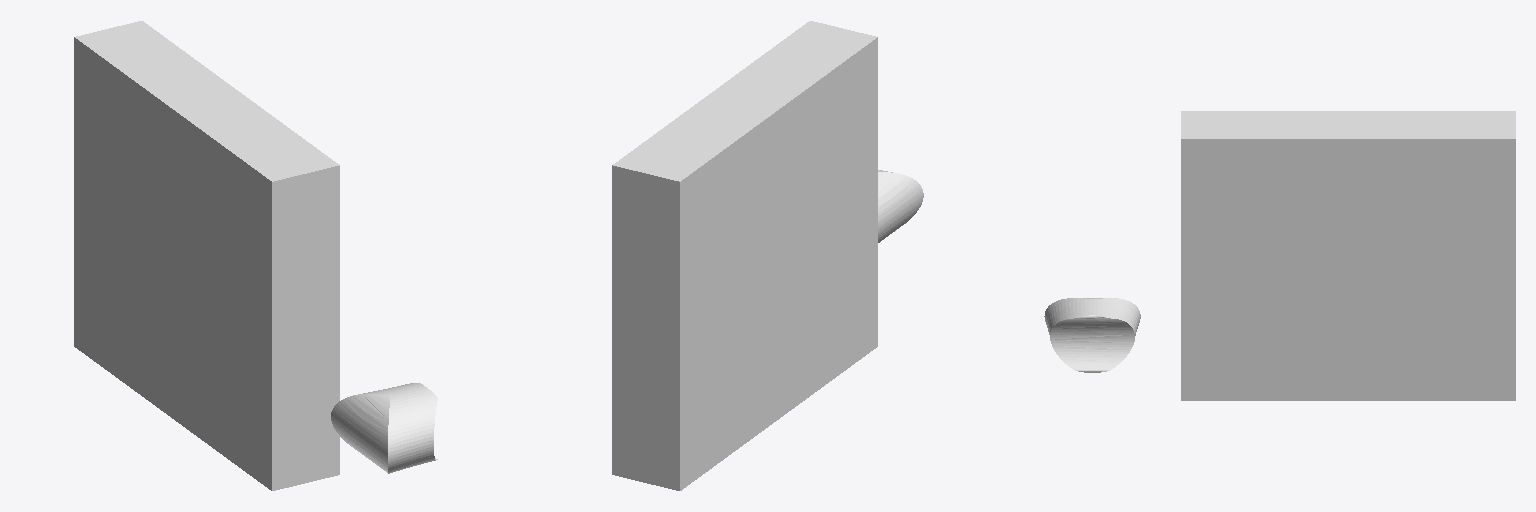
The robot description file, URDF, robot "autobed":
<?xml version="1.0" ?>
<robot name="autobed">

  <gazebo reference="autobed">
    <plugin filename="libros_model_plugin.so" name="ros_model_plugin"/>
    <static> false </static>
  </gazebo>

  <gazebo reference="head_rest_link">
    <gravity>true</gravity>
   <!-- kp and kd for thin mud -->
    <kp>1000.0</kp>
    <kd>0.0</kd>
    <mu1>1.5</mu1>
    <mu2>1.5</mu2>
    <fdir1>1 0 0</fdir1>
    <maxVel>1.0</maxVel>
    <minDepth>0.00</minDepth>
    <sensor name="head_rest_link_pressuremat_sensor" type="contact">
      <contact>
        <collision>head_rest_link_collision</collision>
        <topic>__default_topic__</topic>
      </contact>
      <plugin filename="libros_pressuremat_plugin.so" name="ros_pressuremat_plugin_head_rest_link"/>
      <always_on>1</always_on>
      <update_rate>30.0</update_rate>
      <visualize>false</visualize>
    </sensor>
  </gazebo>

  <gazebo reference="head_rest_spring">
    <gravity>true</gravity>
   <!-- kp and kd for thick mud -->
    <kp>10000000000.0</kp>
    <kd>0.0</kd>
    <mu1>1.5</mu1>
    <mu2>1.5</mu2>
    <fdir1>1 0 0</fdir1>
    <maxVel>1.0</maxVel>
    <minDepth>0.00</minDepth>
  </gazebo>


  <gazebo reference="mid_body_link">
    <gravity>true</gravity>
    <!-- kp and kd for rubber -->
    <kp>1000.0</kp>
    <kd>0.0</kd>
    <mu1>1.5</mu1>
    <mu2>1.5</mu2>
    <fdir1>1 0 0</fdir1>
    <maxVel>1.0</maxVel>
    <minDepth>0.00</minDepth>
   <sensor name="mid_body_link_pressuremat_sensor" type="contact">
      <contact>
        <collision>mid_body_link_collision</collision>
        <topic>__default_topic__</topic>
      </contact>
      <plugin filename="libros_pressuremat_plugin.so" name="ros_pressuremat_plugin_mid_body_link"/>
      <always_on>1</always_on>
      <update_rate>30.0</update_rate>
      <visualize>false</visualize>
    </sensor>
  </gazebo>

  <gazebo reference="torso_lift_link">
    <gravity>true</gravity>
    <!-- kp and kd for rubber -->
    <kp>10000000000.0</kp>
    <kd>0.0</kd>
    <mu1>1.5</mu1>
    <mu2>1.5</mu2>
    <fdir1>1 0 0</fdir1>
    <maxVel>1.0</maxVel>
    <minDepth>0.00</minDepth>
  </gazebo>


  <gazebo reference="leg_rest_upper_link">
    <gravity>true</gravity>
    <!-- kp and kd for rubber -->
    <kp>1000.0</kp>
    <kd>0.0</kd>
    <mu1>1.5</mu1>
    <mu2>1.5</mu2>
    <fdir1>1 0 0</fdir1>
    <maxVel>1.0</maxVel>
    <minDepth>0.00</minDepth>
   <sensor name="leg_rest_upper_link_pressuremat_sensor" type="contact">
      <contact>
        <collision>leg_rest_upper_link_collision</collision>
        <topic>__default_topic__</topic>
      </contact>
      <plugin filename="libros_pressuremat_plugin.so" name="ros_pressuremat_plugin_leg_rest_upper_link"/>
      <always_on>1</always_on>
      <update_rate>30.0</update_rate>
      <visualize>false</visualize>
    </sensor>
  </gazebo>

  <gazebo reference="leg_rest_upper_spring">
    <gravity>true</gravity>
    <!-- kp and kd for rubber -->
    <kp>10000000000.0</kp>
    <kd>0.0</kd>
    <mu1>1.5</mu1>
    <mu2>1.5</mu2>
    <fdir1>1 0 0</fdir1>
    <maxVel>1.0</maxVel>
    <minDepth>0.00</minDepth>
  </gazebo>


  <gazebo reference="leg_rest_lower_link">
    <gravity>true</gravity>
    <!-- kp and kd for rubber -->
    <kp>1000.0</kp>
    <kd>0.0</kd>
    <mu1>1.5</mu1>
    <mu2>1.5</mu2>
    <fdir1>1 0 0</fdir1>
    <maxVel>1.0</maxVel>
    <minDepth>0.00</minDepth>

    <sensor name="leg_rest_lower_link_pressuremat_sensor" type="contact">
      <contact>
        <collision>leg_rest_lower_link_collision</collision>
        <topic>__default_topic__</topic>
      </contact>
      <plugin filename="libros_pressuremat_plugin.so" name="ros_pressuremat_plugin_leg_rest_lower_link"/>
      <always_on>1</always_on>
      <update_rate>30.0</update_rate>
      <visualize>false</visualize>
    </sensor>
  </gazebo>


  <gazebo reference="leg_rest_lower_spring">
    <gravity>true</gravity>
    <!-- kp and kd for rubber -->
    <kp>10000000000.0</kp>
    <kd>111111111110.0</kd>
    <mu1>1.5</mu1>
    <mu2>1.5</mu2>
    <fdir1>1 0 0</fdir1>
    <maxVel>1.0</maxVel>
    <minDepth>0.00</minDepth>
  </gazebo>



  <link name="world"/>


  <joint name="X" type="fixed">
    <axis xyz="1 0 0"/>
    <origin rpy="0 0 1.57079632679" xyz="0.0 -1.1433776843867E-16 0.0"/>
    <parent link="world"/>
    <child link="base_link"/>
    <limit effort="30" lower="-0.714601836603" upper="2.2853981634" velocity="3.48"/>
    <dynamics damping="10.0"/>
    <safety_controller k_position="100" k_velocity="10" soft_lower_limit="-0.564601836603" soft_upper_limit="2.1353981634"/>
  </joint>


  <link
    name="base_link">
    <inertial>
      <origin
        xyz="0.0 -1.33394063178448E-16 0.0"
        rpy="0 0 0" />
      <mass
        value="582.60172808288" />
      <inertia
        ixx="1.14927006759014"
        ixy="3.33066907387547E-16"
        ixz="-3.20129858648357E-16"
        iyy="6.70434113225239"
        iyz="-1.34244075554923E-15"
        izz="7.79754704731756" />
    </inertial>
    <visual>
      <origin
        xyz="0 0 0"
        rpy="0 0 0" />
      <geometry>
        <mesh
          filename="package://hrl_gazebo_autobed/urdf/meshes/base_link.STL" />
      </geometry>
      <material
        name="">
        <color
          rgba="0.792156862745098 0.819607843137255 0.933333333333333 1" />
      </material>
    </visual>
    <collision>
      <origin
        xyz="0 0 0"
        rpy="0 0 0" />
      <geometry>
        <mesh
          filename="package://hrl_gazebo_autobed/urdf/meshes/base_link.STL" />
      </geometry>
    </collision>
  </link>

  <link
    name="torso_lift_link">
    <inertial>
      <origin
        xyz="1.0496 2.2511E-16 0.082398"
        rpy="0 0 0" />
      <mass
        value="14.2783" />
      <inertia
        ixx="12.999"
        ixy="3.3693E-14"
        ixz="-0.32653"
        iyy="75.15"
        iyz="6.0531E-15"
        izz="85.421" />
    </inertial>
    <visual>
      <origin
        xyz="0 0 0"
        rpy="0 0 0" />
      <geometry>
        <mesh
          filename="package://hrl_gazebo_autobed/urdf/meshes/torso_lift_link.STL" />
      </geometry>
      <material
        name="">
        <color
          rgba="0.79216 0.81961 0.93333 1" />
      </material>
    </visual>
    <collision>
      <origin
        xyz="0 0 0"
        rpy="0 0 0" />
      <geometry>
        <mesh
          filename="package://hrl_gazebo_autobed/urdf/meshes/torso_lift_link.STL" />
      </geometry>
    </collision>
  </link>
  <joint
    name="autobed_height_joint"
    type="prismatic">
    <origin
      xyz="-0.02 0 0.2805"
      rpy="0 0 0" />
    <parent
      link="base_link" />
    <child
      link="torso_lift_link" />
    <axis
      xyz="0 0 1" />
    <limit
      lower="0.0"
      upper="0.2"
      effort="2000"
      velocity="0.2" />
  </joint>

  <link
    name="mid_body_link">
    <inertial>
      <origin
        xyz="2.5603E-16 0.185 -0.14"
        rpy="0 0 0" />
      <mass
        value="4.0992" />
      <inertia
        ixx="0.086361"
        ixy="1.3556E-16"
        ixz="-7.0508E-17"
        iyy="0.97743"
        iyz="1.6284E-17"
        izz="0.89641" />
    </inertial>
    <visual>
      <origin
        xyz="0 0 0"
        rpy="0 0 0" />
      <geometry>
        <mesh
          filename="package://hrl_gazebo_autobed/urdf/meshes/mid_body_link.STL" />
      </geometry>
      <material
        name="">
        <color
          rgba="0.93333 0.93333 0.93333 1" />
      </material>
    </visual>
    <collision name="mid_body_link_collision">
      <origin
        xyz="0 0 0"
        rpy="0 0 0" />
      <geometry>
        <mesh
          filename="package://hrl_gazebo_autobed/urdf/meshes/mid_body_link.STL" />
      </geometry>
    </collision>
  </link>

  <joint
    name="mid_body_support"
    type="revolute">
    <origin
      xyz="0.78266 0 0.05"
      rpy="1.5708 -8.0245E-32 -1.5708" />
    <parent
      link="torso_lift_link" />
    <child
      link="mid_body_link" />
    <axis
      xyz="0 0 1" />
    <limit
      lower="0"
      upper="0"
      effort="0"
      velocity="0" />
  </joint>

  <link
    name="head_rest_link">
    <inertial>
      <origin
        xyz="-0.40091 -8.251E-16 -0.01072"
        rpy="0 0 0" />
      <mass
        value="5.2153755040103" />
      <inertia
        ixx="3.2938"
        ixy="-1.1573E-16"
        ixz="-0.065382"
        iyy="1.7511"
        iyz="-3.6248E-16"
        izz="4.9801" />
    </inertial>
    <visual>
      <origin
        xyz="0 0 0"
        rpy="0 0 0" />
      <geometry>
        <mesh
          filename="package://hrl_gazebo_autobed/urdf/meshes/head_rest_link.STL" />
      </geometry>
      <material
        name="">
        <color
          rgba="0.9333 0.9333 0.93333 1" />
      </material>
    </visual>
    <collision name="head_rest_link_collision">
      <origin
        xyz="0 0 0"
        rpy="0 0 0" />
      <geometry>
        <mesh
          filename="package://hrl_gazebo_autobed/urdf/meshes/head_rest_link.STL" />
      </geometry>
    </collision>
  </link>

  <joint
    name="head_rest_hinge"
    type="revolute">
    <origin
      xyz="0 0.21 0"
      rpy="0 1.57 1.57" />
    <parent
      link="mid_body_link" />
    <child
      link="head_rest_link" />
    <axis
      xyz="0 1 0" />
    <limit
      lower="0"
      upper="1.57"
      effort="2000"
      velocity="0.2" />
  </joint>

  <link
    name="head_rest_spring">
    <inertial>
      <origin
        xyz="-0.36 -9.134E-16 -0.13"
        rpy="0 0 0" />
      <mass
        value="10.0" />
      <inertia
        ixx="7.5791"
        ixy="-1.4362E-15"
        ixz="-1.0523E-15"
        iyy="4.7785"
        iyz="-9.0916E-16"
        izz="11.908" />
    </inertial>
    <visual>
      <origin
        xyz="0 0 0"
        rpy="0 0 0" />
      <geometry>
        <mesh
          filename="package://hrl_gazebo_autobed/urdf/meshes/head_rest_spring.STL" />
      </geometry>
      <material
        name="">
        <color
          rgba="0.79216 0.81961 0.93333 1" />
      </material>
    </visual>
    <collision>
      <origin
        xyz="0 0 0"
        rpy="0 0 0" />
      <geometry>
        <mesh
          filename="package://hrl_gazebo_autobed/urdf/meshes/head_rest_spring.STL" />
      </geometry>
    </collision>
  </link>

  <joint
    name="head_support"
    type="revolute">
    <origin
      xyz="0 0 0"
      rpy="0 0 0" />
    <parent
      link="head_rest_link" />
    <child
      link="head_rest_spring" />
    <axis
      xyz="0 0 1" />
    <limit
      lower="0"
      upper="0"
      effort="0"
      velocity="0" />
  </joint>

  <link
    name="leg_rest_upper_link">
    <inertial>
      <origin
        xyz="0.185 -5.0573E-17 -0.025"
        rpy="0 0 0" />
      <mass
        value="02.10955" />
      <inertia
        ixx="1.1845"
        ixy="1.1918E-16"
        ixz="2.5669E-17"
        iyy="0.19664"
        iyz="-1.0577E-16"
        izz="1.3741" />
    </inertial>
    <visual>
      <origin
        xyz="0 0 0"
        rpy="0 0 0" />
      <geometry>
        <mesh
          filename="package://hrl_gazebo_autobed/urdf/meshes/leg_rest_upper_link.STL" />
      </geometry>
      <material
        name="">
        <color
          rgba="0.9333 0.93333 0.93333 1" />
      </material>
    </visual>
    <collision name="leg_rest_upper_link_collision">
      <origin
        xyz="0 0 0"
        rpy="0 0 0" />
      <geometry>
        <mesh
          filename="package://hrl_gazebo_autobed/urdf/meshes/leg_rest_upper_link.STL" />
      </geometry>
    </collision>
  </link>

  <joint
    name="leg_rest_upper_joint"
    type="revolute">
    <origin
      xyz="0 0.21 -0.28"
      rpy="0 1.5708 1.5708" />
    <parent
      link="mid_body_link" />
    <child
      link="leg_rest_upper_link" />
    <axis
      xyz="0 -1 0" />
    <limit
      lower="0"
      upper="1"
      effort="2000"
      velocity="0.2" />
  </joint>

  <link
    name="leg_rest_lower_link">
    <inertial>
      <origin
        xyz="0.345 -1.9462E-17 -0.025"
        rpy="0 0 0" />
      <mass
        value="3.25835" />
      <inertia
        ixx="2.209"
        ixy="1.3017E-16"
        ixz="-6.1265E-16"
        iyy="1.259"
        iyz="-5.5408E-16"
        izz="3.4549" />
    </inertial>
    <visual>
      <origin
        xyz="0 0 0"
        rpy="0 0 0" />
      <geometry>
        <mesh
          filename="package://hrl_gazebo_autobed/urdf/meshes/leg_rest_lower_link.STL" />
      </geometry>
      <material
        name="">
        <color
          rgba="0.93333 0.93333 0.93333 1" />
      </material>
    </visual>
    <collision name="leg_rest_lower_link_collision">
      <origin
        xyz="0 0 0"
        rpy="0 0 0" />
      <geometry>
        <mesh
          filename="package://hrl_gazebo_autobed/urdf/meshes/leg_rest_lower_link.STL" />
      </geometry>
    </collision>
  </link>

  <joint
    name="leg_rest_upper_lower_joint"
    type="revolute">
    <origin
      xyz="0.37 0 0"
      rpy="0 0 0" />
    <parent
      link="leg_rest_upper_link" />
    <child
      link="leg_rest_lower_link" />
    <axis
      xyz="0 -1 0" />
    <limit
      lower="-0.785"
      upper="0"
      effort="2000"
      velocity="0.2" />
  </joint>

  <link
    name="leg_rest_lower_spring">
    <inertial>
      <origin
        xyz="0.345 -2.9232E-16 -0.13"
        rpy="0 0 0" />
      <mass
        value="10.016" />
      <inertia
        ixx="7.2633"
        ixy="-1.2975E-15"
        ixz="1.814E-16"
        iyy="4.2233"
        iyz="-1.5281E-15"
        izz="11.056" />
    </inertial>
    <visual>
      <origin
        xyz="0 0 0"
        rpy="0 0 0" />
      <geometry>
        <mesh
          filename="package://hrl_gazebo_autobed/urdf/meshes/leg_rest_lower_spring.STL" />
      </geometry>
      <material
        name="">
        <color
          rgba="0.79216 0.81961 0.93333 1" />
      </material>
    </visual>
    <collision>
      <origin
        xyz="0 0 0"
        rpy="0 0 0" />
      <geometry>
        <mesh
          filename="package://hrl_gazebo_autobed/urdf/meshes/leg_rest_lower_spring.STL" />
      </geometry>
    </collision>
  </link>

  <joint
    name="leg_rest_lower_support"
    type="revolute">
    <origin
      xyz="0 0 0"
      rpy="0 0 0" />
    <parent
      link="leg_rest_lower_link" />
    <child
      link="leg_rest_lower_spring" />
    <axis
      xyz="0 0 1" />
    <limit
      lower="0"
      upper="0"
      effort="0"
      velocity="0" />
  </joint>

  <link
    name="leg_rest_upper_spring">
    <inertial>
      <origin
        xyz="0.185 -1.2824E-16 -0.13"
        rpy="0 0 0" />
      <mass
        value="5.0" />
      <inertia
        ixx="3.8948"
        ixy="-5.5404E-16"
        ixz="-1.058E-16"
        iyy="0.73353"
        iyz="-5.0897E-16"
        izz="4.3972" />
    </inertial>
    <visual>
      <origin
        xyz="0 0 0"
        rpy="0 0 0" />
      <geometry>
        <mesh
          filename="package://hrl_gazebo_autobed/urdf/meshes/leg_rest_upper_spring.STL" />
      </geometry>
      <material
        name="">
        <color
          rgba="0.79216 0.81961 0.93333 1" />
      </material>
    </visual>
    <collision>
      <origin
        xyz="0 0 0"
        rpy="0 0 0" />
      <geometry>
        <mesh
          filename="package://hrl_gazebo_autobed/urdf/meshes/leg_rest_upper_spring.STL" />
      </geometry>
    </collision>
  </link>

  <joint
    name="leg_rest_upper_support"
    type="revolute">
    <origin
      xyz="0 0 0"
      rpy="0 0 0" />
    <parent
      link="leg_rest_upper_link" />
    <child
      link="leg_rest_upper_spring" />
    <axis
      xyz="0 0 1" />
    <limit
      lower="0"
      upper="0"
      effort="0"
      velocity="0" />

  </joint>

<!-- yash added transmissions -->
  <transmission name="autobed_height_t0" type="pr2_mechanism_model/SimpleTransmission">
    <actuator name="autobed_height_a0"/>
    <joint name="autobed_height_joint"/>
    <mechanicalReduction>1</mechanicalReduction>
  </transmission>
  <transmission name="head_rest_t0" type="pr2_mechanism_model/SimpleTransmission">
    <actuator name="head_rest_a0"/>
    <joint name="head_rest_hinge"/>
    <mechanicalReduction>1.0</mechanicalReduction>
  </transmission>
  <transmission name="leg_rest_t1" type="pr2_mechanism_model/SimpleTransmission">
    <actuator name="leg_rest_a1"/>
    <joint name="leg_rest_upper_joint"/>
    <mechanicalReduction>1.0</mechanicalReduction>
  </transmission>
  <transmission name="leg_rest_t2" type="pr2_mechanism_model/SimpleTransmission">
    <actuator name="leg_rest_a2"/>
    <joint name="leg_rest_upper_lower_joint"/>
    <mechanicalReduction>1.0</mechanicalReduction>
  </transmission>

</robot>

--- Render facts (derived) ---
3 views of the same robot in one strip: view 1: azimuth 30°, elevation 25°; view 2: azimuth 150°, elevation 25°; view 3: azimuth 270°, elevation 25° (orthographic).
Model autobed with 10 links and 9 joints (7 revolute, 1 prismatic, 1 fixed), rooted at world, posed every joint at zero.
Visible links, largest first — view 1: leg_rest_lower_link, leg_rest_upper_link, mid_body_link; view 2: leg_rest_lower_link, leg_rest_upper_link, mid_body_link; view 3: leg_rest_lower_link, leg_rest_upper_link, mid_body_link.
Boxes of the visible links, <box> form: leg_rest_lower_link: <box>74,21,270,440</box>; leg_rest_upper_link: <box>203,115,339,490</box>; mid_body_link: <box>331,383,437,473</box>; leg_rest_lower_link: <box>612,71,808,490</box>; leg_rest_upper_link: <box>742,21,877,396</box>; mid_body_link: <box>878,170,923,242</box>; leg_rest_lower_link: <box>1298,111,1515,400</box>; leg_rest_upper_link: <box>1181,111,1297,400</box>; mid_body_link: <box>1044,298,1140,372</box>.
Bounding box of the posed robot: 0.3188 × 1.49 × 0.915 m (x, y, z).
3 mesh visuals loaded from 9 distinct referenced files (3 binary STL); not drawn: 6 (reference not matched to a file when rendering).